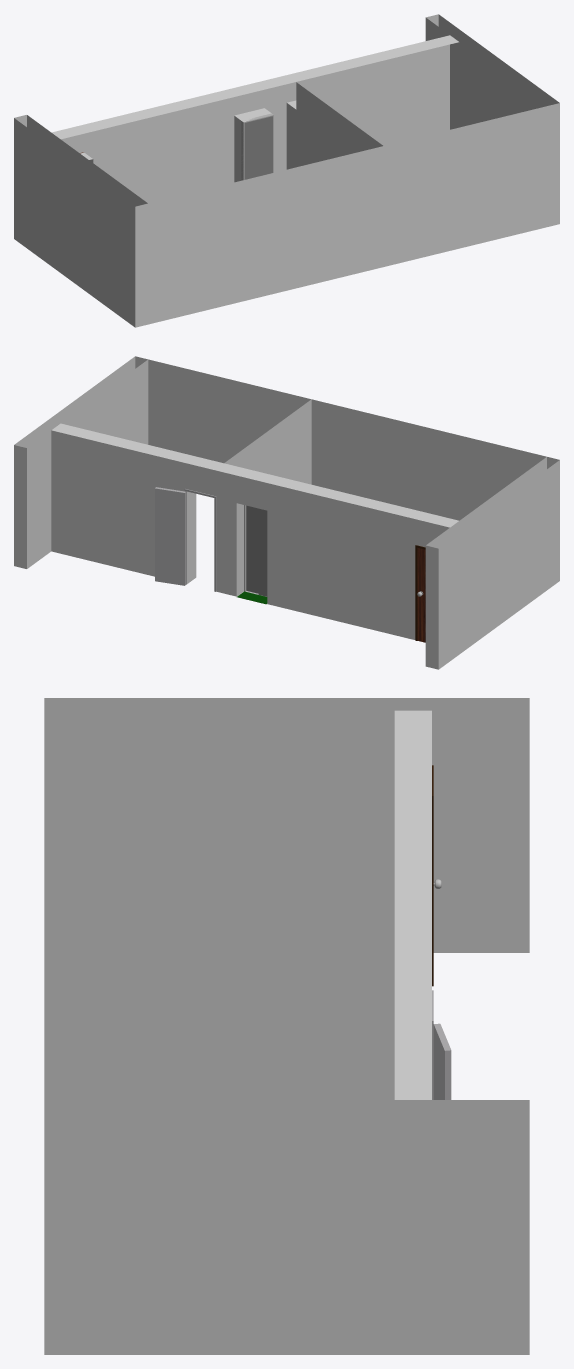
File: zona_edificio.glb
3 renders of one model, top to bottom at view 1: azimuth 30°, elevation 25°; view 2: azimuth 150°, elevation 25°; view 3: azimuth 270°, elevation 25°, orthographic. The views are drawn at different scales.
Parts seen in each view (by area): view 1: pared, columna1.002, columna1.001, puerra ascensor; view 2: pared, columna1.002, columna1.001, puerta gruesa, puerra ascensor, puerta 3; view 3: columna1.001, columna1.002, pared, puerta gruesa.
Part boxes in pixels (x1=…): pared: x1=51, y1=35, x2=546, y2=324; columna1.002: x1=14, y1=115, x2=148, y2=327; columna1.001: x1=425, y1=14, x2=559, y2=226; puerra ascensor: x1=241, y1=113, x2=273, y2=180; pared: x1=51, y1=359, x2=546, y2=639; columna1.002: x1=425, y1=457, x2=559, y2=669; columna1.001: x1=14, y1=356, x2=148, y2=568; puerta gruesa: x1=155, y1=487, x2=216, y2=591; puerra ascensor: x1=244, y1=505, x2=267, y2=596; puerta 3: x1=415, y1=545, x2=425, y2=642; columna1.001: x1=44, y1=1100, x2=529, y2=1354; columna1.002: x1=44, y1=698, x2=529, y2=952; pared: x1=44, y1=710, x2=431, y2=1099; puerta gruesa: x1=432, y1=990, x2=451, y2=1099.
Size of the model in its own units: 58 by 15.8 by 28.68.
9 materials, 1 textured.
